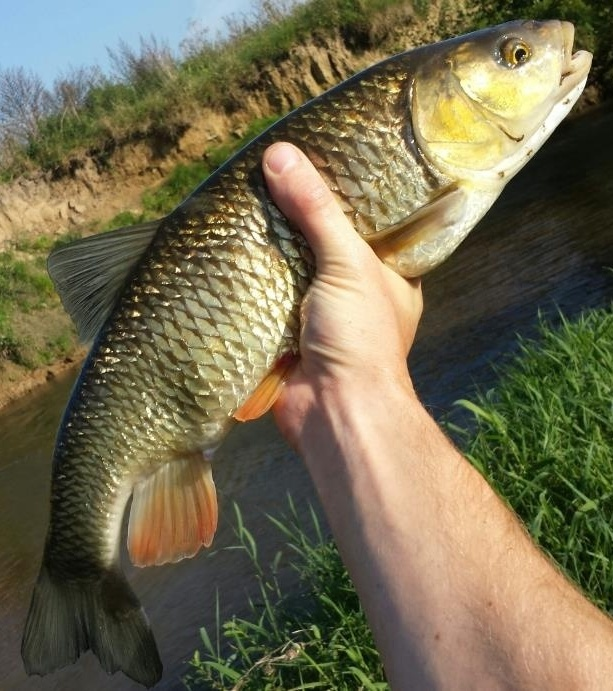Leuciscus cephalus: (20, 18, 593, 684)
